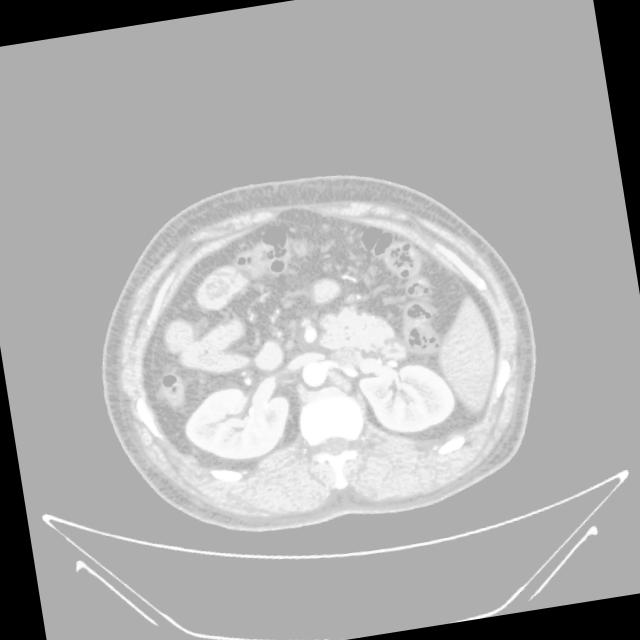NORMAL: (77, 142, 557, 541)
